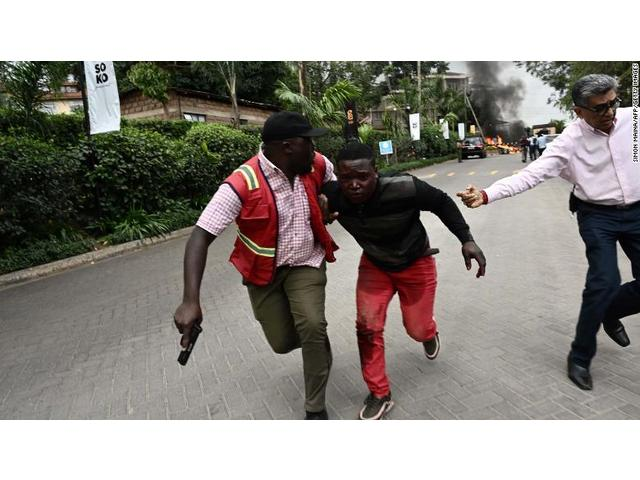pistol: (170, 314, 203, 367)
